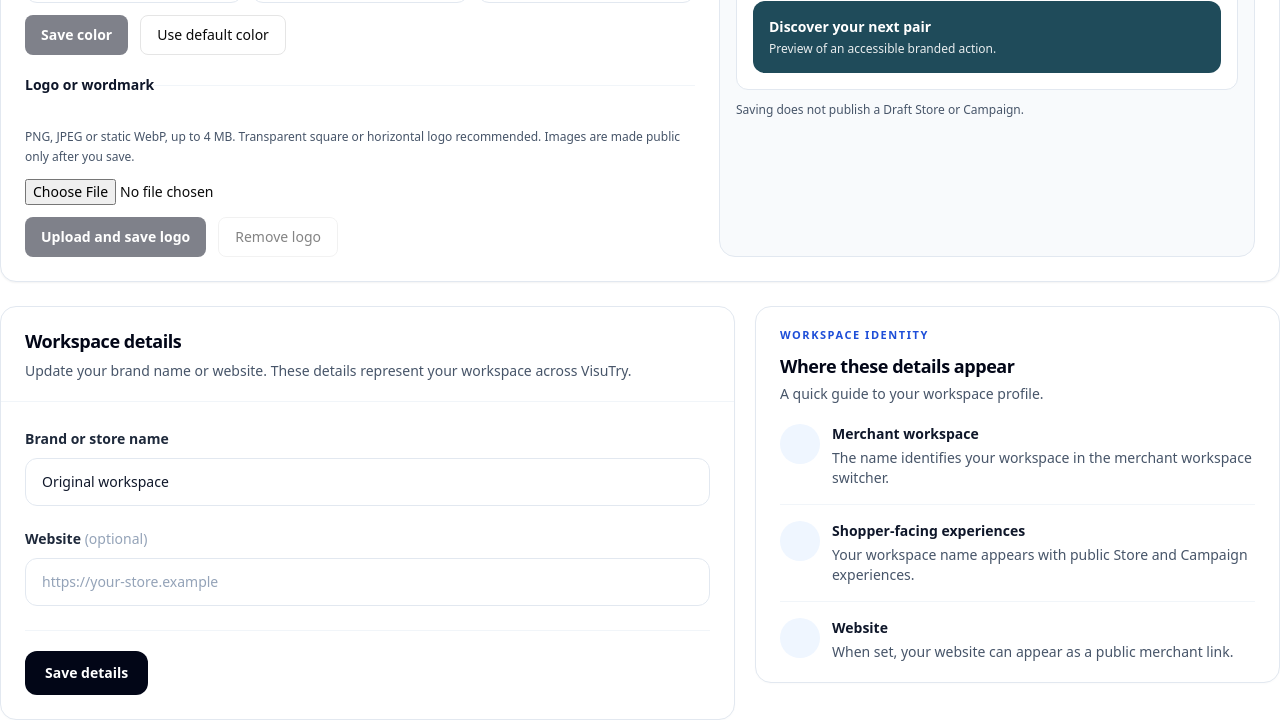
Test: MerchantWorkspaceSettings › PATCHes the existing endpoint, sends an empty website as null, and refreshes on success
(page scrolled)
Replace the text in the field labelled "Brand or store name" with "  Revised workspace  " at (368, 482), box x1=25 y1=458 x2=710 y2=506
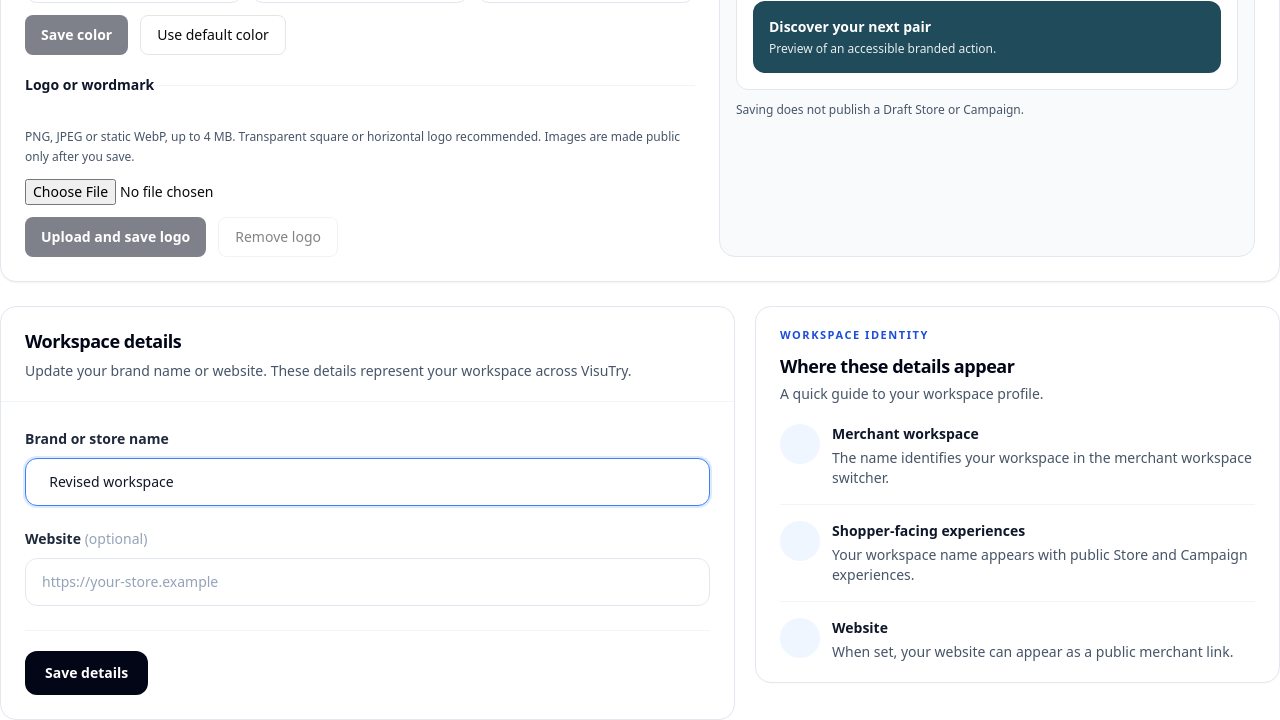
Click the button "Save details" at (87, 673), box x1=25 y1=651 x2=148 y2=695
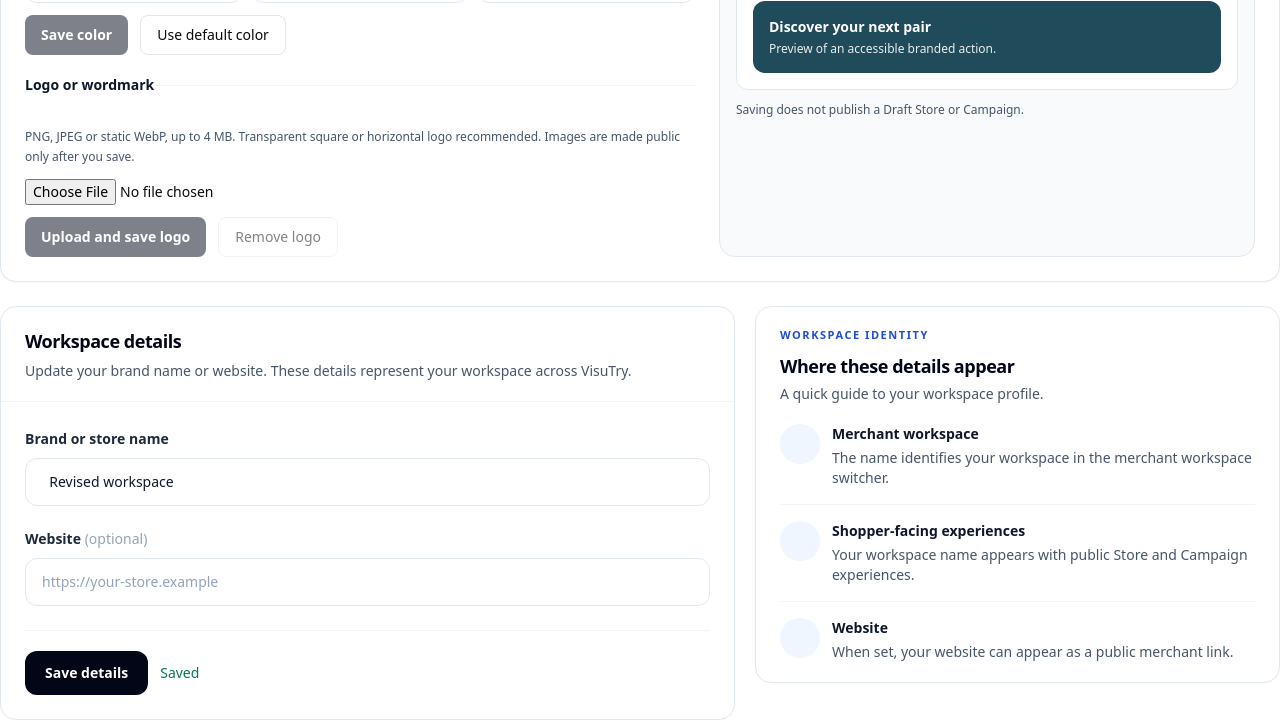
Expected: the message "Saved" is shown, x1=160 y1=663 x2=199 y2=683
Expected: the message reads "Saved", x1=160 y1=663 x2=199 y2=682
